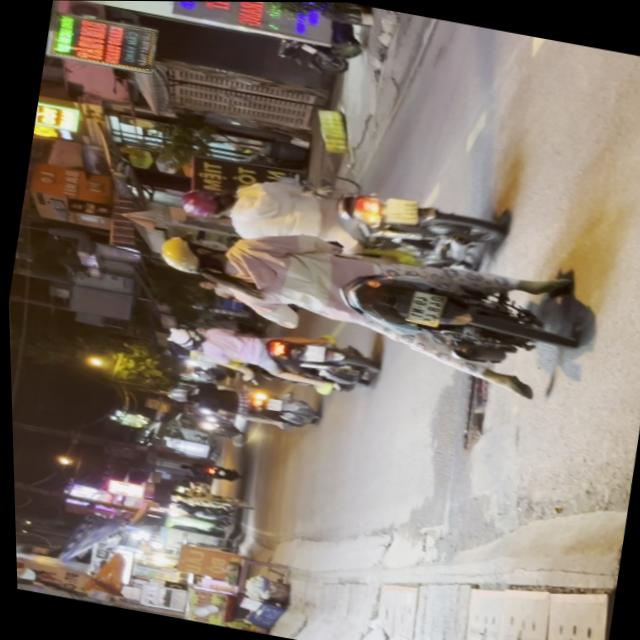helmet: (151, 230, 226, 278), (175, 181, 232, 221), (158, 322, 202, 350)
licenseplate: (137, 199, 590, 401), (168, 150, 504, 281), (147, 304, 384, 407)
nohelmet: (402, 289, 440, 324), (379, 194, 416, 225), (299, 343, 321, 362)
